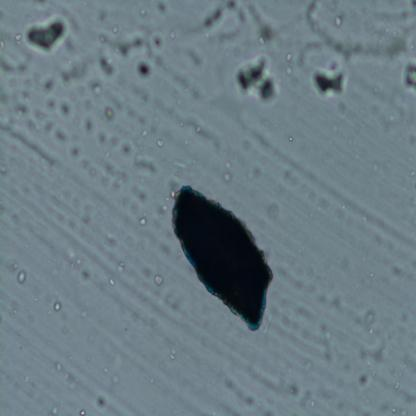Background material: (306, 0, 416, 58), (236, 51, 280, 103), (1, 122, 52, 166), (160, 62, 203, 104), (228, 4, 275, 42), (59, 50, 98, 91), (27, 18, 70, 55), (221, 372, 260, 409), (312, 59, 349, 97), (180, 111, 220, 146), (238, 122, 273, 160), (96, 157, 127, 196), (314, 310, 336, 364), (286, 371, 318, 406), (359, 334, 393, 365), (128, 146, 161, 177), (35, 69, 56, 117), (276, 168, 312, 196), (180, 36, 204, 72), (41, 117, 70, 146), (371, 106, 399, 136), (197, 4, 225, 33), (360, 304, 388, 332), (107, 132, 136, 159), (114, 36, 147, 57), (381, 262, 409, 284), (75, 106, 96, 134), (4, 54, 32, 74), (154, 196, 171, 228), (128, 171, 150, 195), (171, 154, 200, 172), (16, 102, 36, 128), (296, 302, 312, 334), (401, 58, 416, 91), (101, 52, 118, 81), (57, 368, 80, 389), (265, 197, 284, 222), (58, 96, 74, 124), (63, 247, 81, 271), (65, 8, 82, 33), (330, 290, 346, 314), (136, 58, 154, 79), (68, 142, 85, 164), (81, 204, 96, 227), (106, 368, 121, 389), (154, 0, 168, 22), (358, 366, 374, 385), (94, 390, 108, 411), (154, 244, 174, 258), (150, 32, 164, 52), (224, 153, 232, 184), (50, 358, 64, 373), (285, 46, 297, 63), (106, 238, 120, 252), (17, 267, 27, 285), (107, 106, 117, 124), (116, 258, 127, 274), (168, 345, 178, 362), (95, 34, 107, 48), (152, 271, 163, 286), (52, 300, 63, 314), (83, 274, 95, 286), (282, 135, 295, 146), (254, 164, 264, 178), (285, 63, 295, 76), (334, 14, 342, 30), (167, 31, 176, 43), (109, 23, 118, 35), (108, 276, 116, 289), (13, 32, 22, 43), (80, 310, 89, 320), (139, 216, 147, 227), (156, 138, 165, 147), (139, 6, 147, 16), (52, 404, 58, 416), (99, 16, 107, 23), (80, 407, 86, 416), (410, 170, 416, 178)
Fragment: (173, 183, 275, 332)
